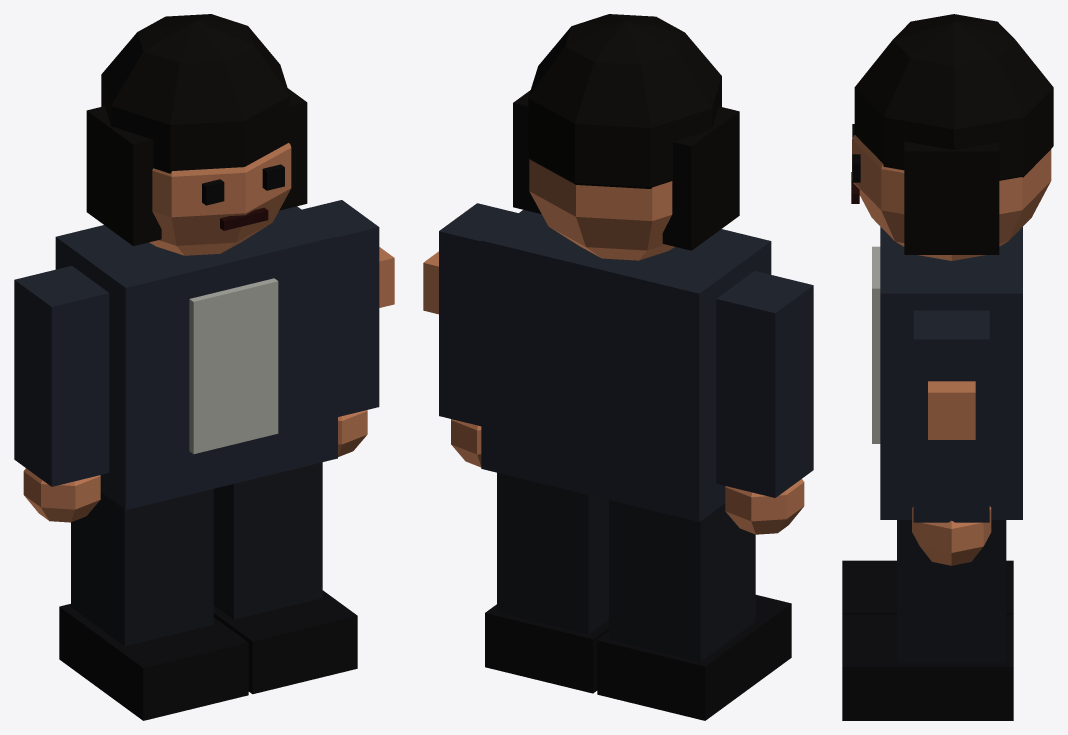
File: LowPolyThrower.obj
The picture shows the model from 3 angles, left to right: view 1: azimuth 30°, elevation 25°; view 2: azimuth 150°, elevation 25°; view 3: azimuth 270°, elevation 25°; orthographic projection. The views are drawn at different scales.
Size of the model in its own units: 1.73 by 3 by 0.8885.
